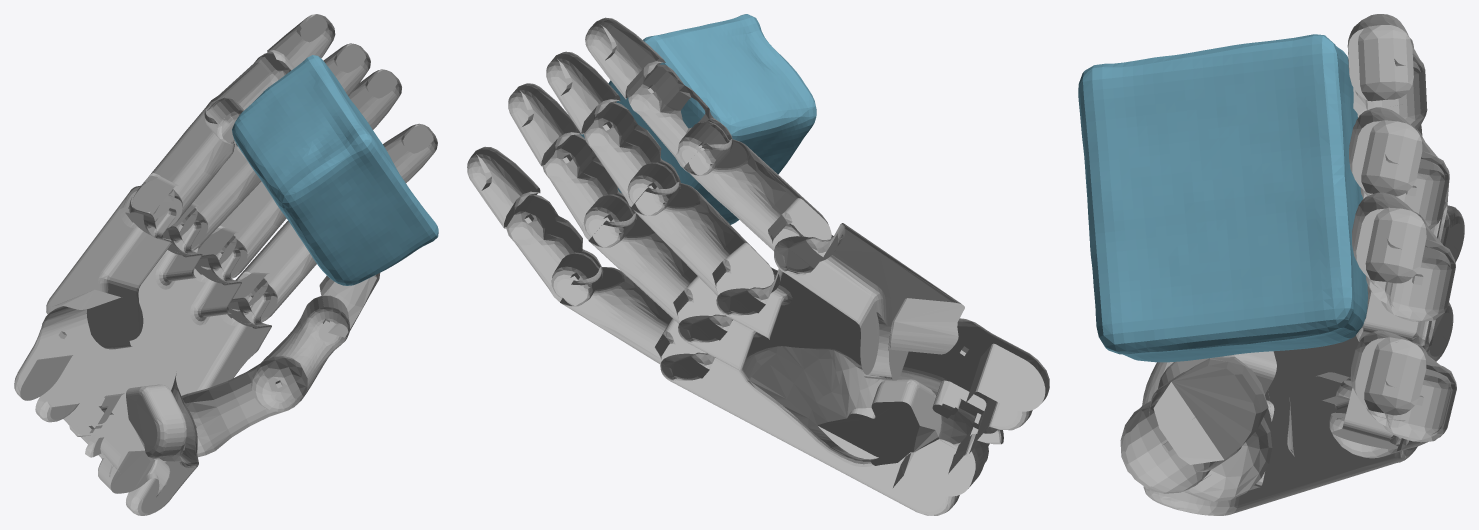
Rendered from ugg_4.glb.
The picture shows the model from 3 angles, left to right: view 1: azimuth 30°, elevation 25°; view 2: azimuth 150°, elevation 25°; view 3: azimuth 270°, elevation 25°; orthographic projection. The views are drawn at different scales.
Parts seen in each view (by area): view 1: world; view 2: world; view 3: world.
Part boxes in pixels (bbox=[...]): world: bbox=[14, 14, 438, 515]; world: bbox=[467, 14, 1049, 515]; world: bbox=[1078, 14, 1464, 515].
Size of the model in its own units: 1.36 by 1.16 by 0.586.
